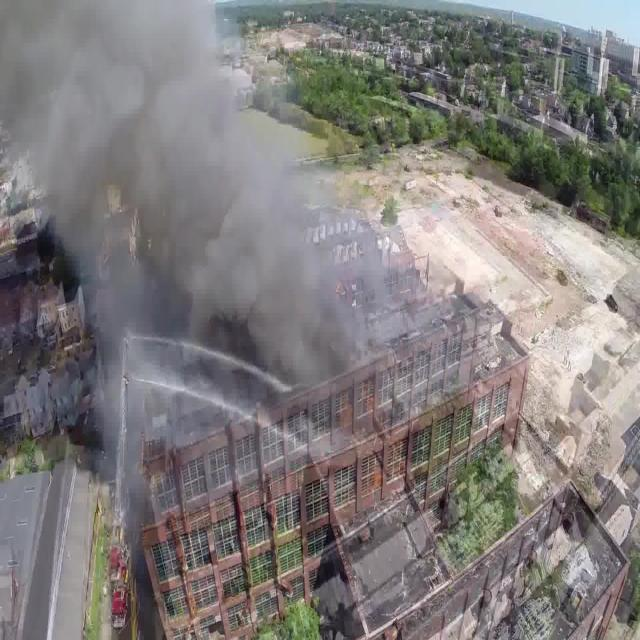Smoke: (4, 0, 333, 395), (242, 135, 412, 413)
